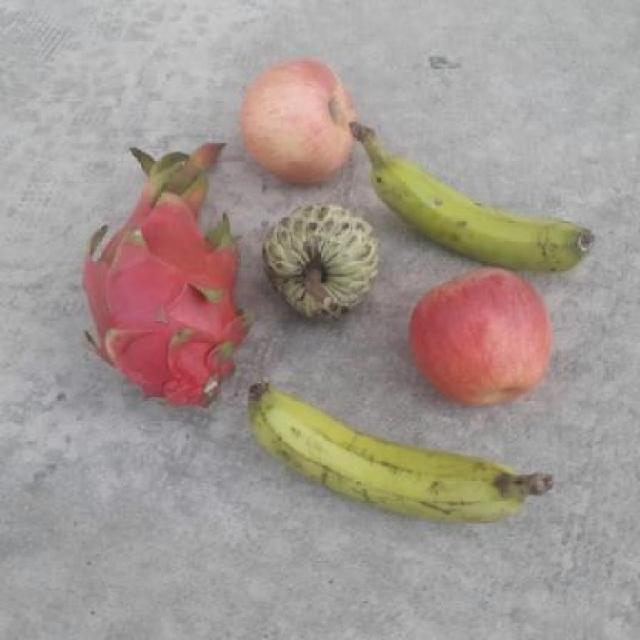apple: (411, 266, 551, 411), (235, 57, 359, 183)
banana: (247, 380, 555, 525), (353, 121, 598, 270)
dragon fruit: (78, 143, 257, 408)
sugar apple: (262, 202, 380, 326)
